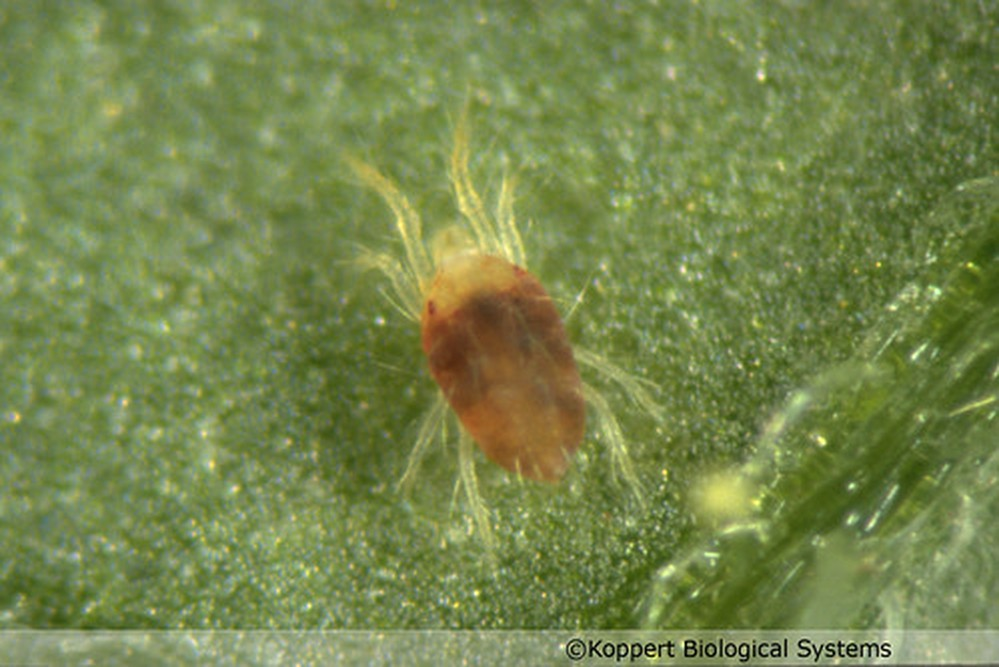Aracnido Rojo: (332, 91, 693, 580)
